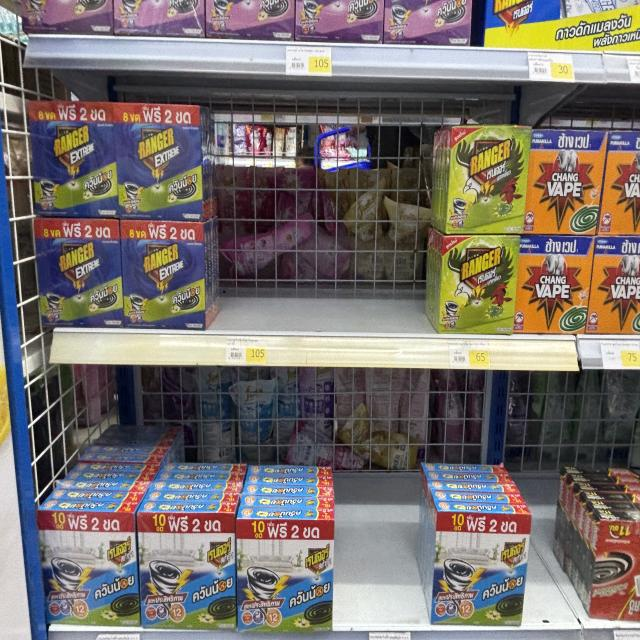empty_shelf: (215, 106, 440, 335), (38, 371, 335, 513), (338, 371, 430, 628), (525, 374, 592, 625), (435, 375, 524, 504)
